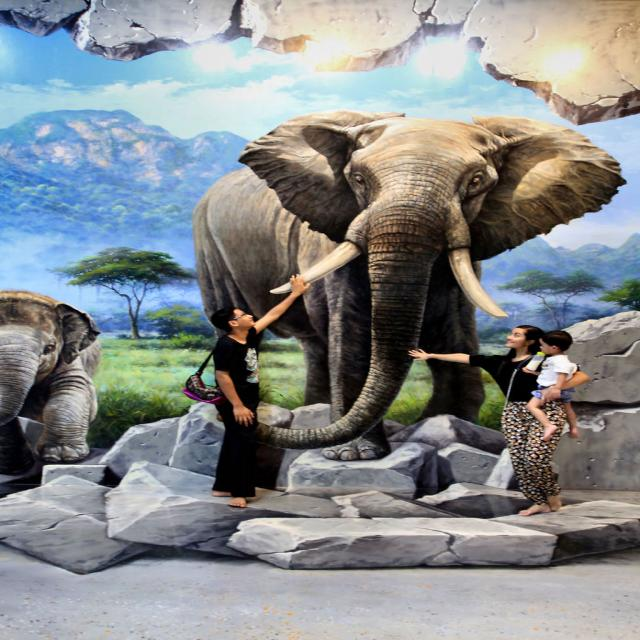elephant: (186, 101, 624, 465), (0, 285, 96, 482)
